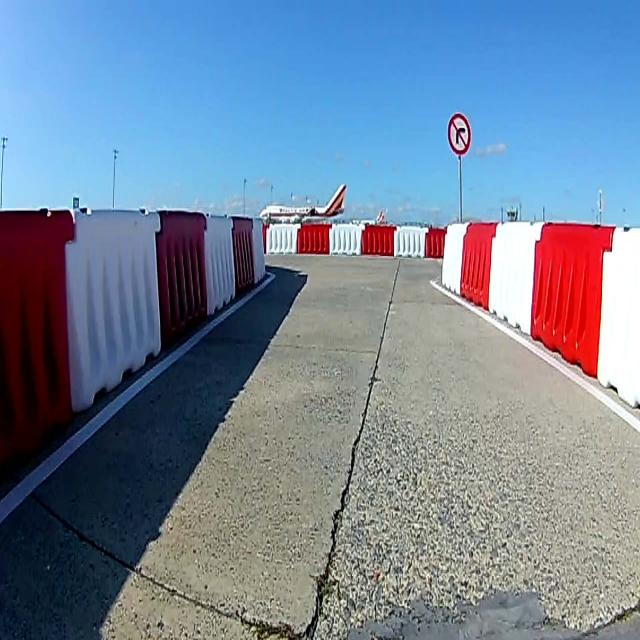sagadonulmez: (448, 114, 471, 154)
